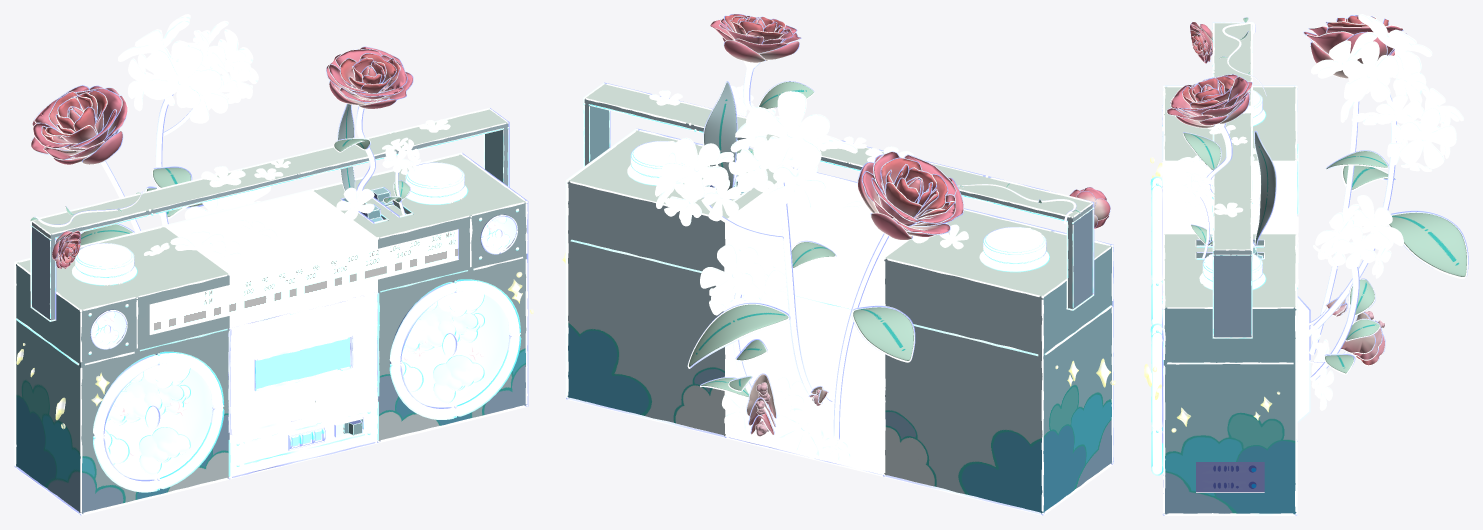
File: boombox.glb
3 views of the same model, side by side, from view 1: azimuth 30°, elevation 25°; view 2: azimuth 150°, elevation 25°; view 3: azimuth 270°, elevation 25° (orthographic). The views are drawn at different scales.
Visible parts, largest first — view 1: Boombox_Main, Cassette Door, Handle, Screen, Rose.002, Rose, Daisy.030, Knob.001, Cloud.001, Cloud, Knob, Daisy Stem (+17 smaller); view 2: Boombox_Main, Handle, Rose.002, Daisy Stem, Rose, Daisy.033, Knob.001, Daisy.036, Daisy.025, Leaf, Daisy.043, Daisy.017 (+10 smaller); view 3: Boombox_Main, Handle, Daisy Stem, Rose, Rose.002, Daisy Stem.002, Daisy.028, Daisy.040, Vent Buttons, Leaf, Daisy.025, Flower (+13 smaller).
Part boxes in pixels (bbox=[...]): Boombox_Main: bbox=[14, 152, 528, 515]; Cassette Door: bbox=[228, 292, 379, 435]; Handle: bbox=[30, 108, 509, 321]; Screen: bbox=[149, 229, 458, 334]; Rose.002: bbox=[30, 85, 140, 245]; Rose: bbox=[326, 46, 413, 200]; Daisy.030: bbox=[143, 46, 221, 107]; Knob.001: bbox=[72, 243, 137, 285]; Cloud.001: bbox=[107, 376, 190, 425]; Cloud: bbox=[403, 304, 484, 353]; Knob: bbox=[405, 162, 468, 204]; Daisy Stem: bbox=[144, 94, 203, 225]; Boombox_Main: bbox=[565, 128, 1113, 515]; Handle: bbox=[583, 82, 1094, 310]; Rose.002: bbox=[833, 151, 963, 440]; Daisy Stem: bbox=[687, 181, 836, 399]; Rose: bbox=[709, 14, 814, 186]; Daisy.033: bbox=[746, 91, 829, 170]; Knob.001: bbox=[979, 227, 1049, 272]; Daisy.036: bbox=[661, 137, 728, 200]; Daisy.025: bbox=[700, 244, 758, 305]; Leaf: bbox=[703, 81, 737, 199]; Daisy.043: bbox=[769, 166, 825, 214]; Daisy.017: bbox=[773, 407, 823, 458]; Boombox_Main: bbox=[1150, 85, 1310, 515]; Handle: bbox=[1212, 22, 1252, 338]; Daisy Stem: bbox=[1309, 94, 1468, 336]; Rose: bbox=[1166, 74, 1255, 245]; Rose.002: bbox=[1303, 14, 1407, 355]; Daisy Stem.002: bbox=[1310, 267, 1380, 381]; Daisy.028: bbox=[1343, 41, 1399, 102]; Daisy.040: bbox=[1399, 108, 1456, 168]; Vent Buttons: bbox=[1196, 462, 1264, 492]; Leaf: bbox=[1254, 131, 1276, 245]; Daisy.025: bbox=[1354, 195, 1403, 247]; Flower: bbox=[1309, 310, 1385, 365].
Bounding box in the file's own units: 2.8 × 2.08 × 1.62.
29 materials, 12 textured.
